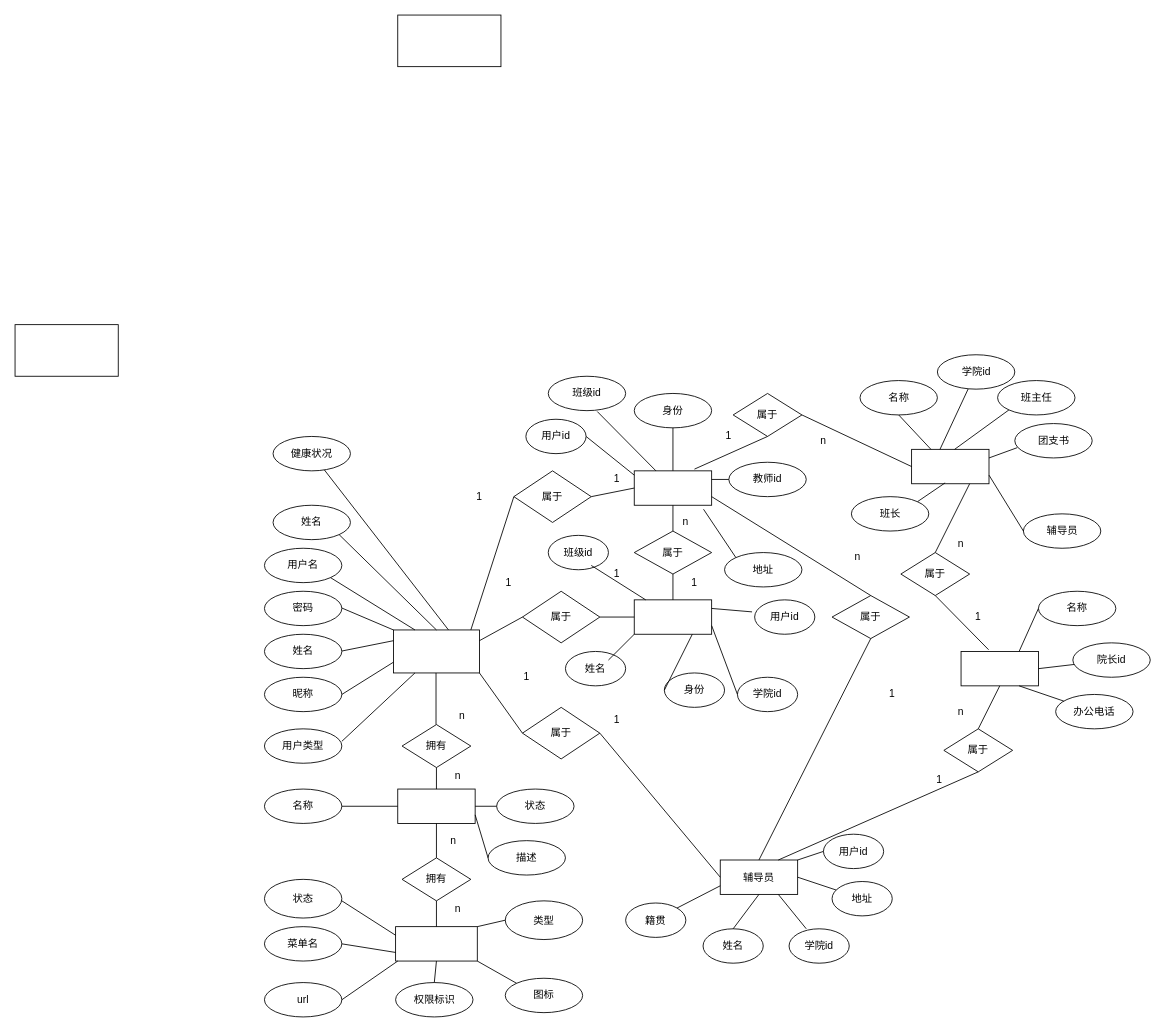
Some shapes in this 1165 by 1032 pixel diagram are drawn without their labels. Here are the shapes that lost their labels. From the top down, the centre of each, then its label:
the point at 950,466: 班级
the point at 672,487: 学生
the point at 672,616: 老师
the point at 436,651: 用户
the point at 999,668: 学院
the point at 436,805: 角色
the point at 436,943: 菜单
